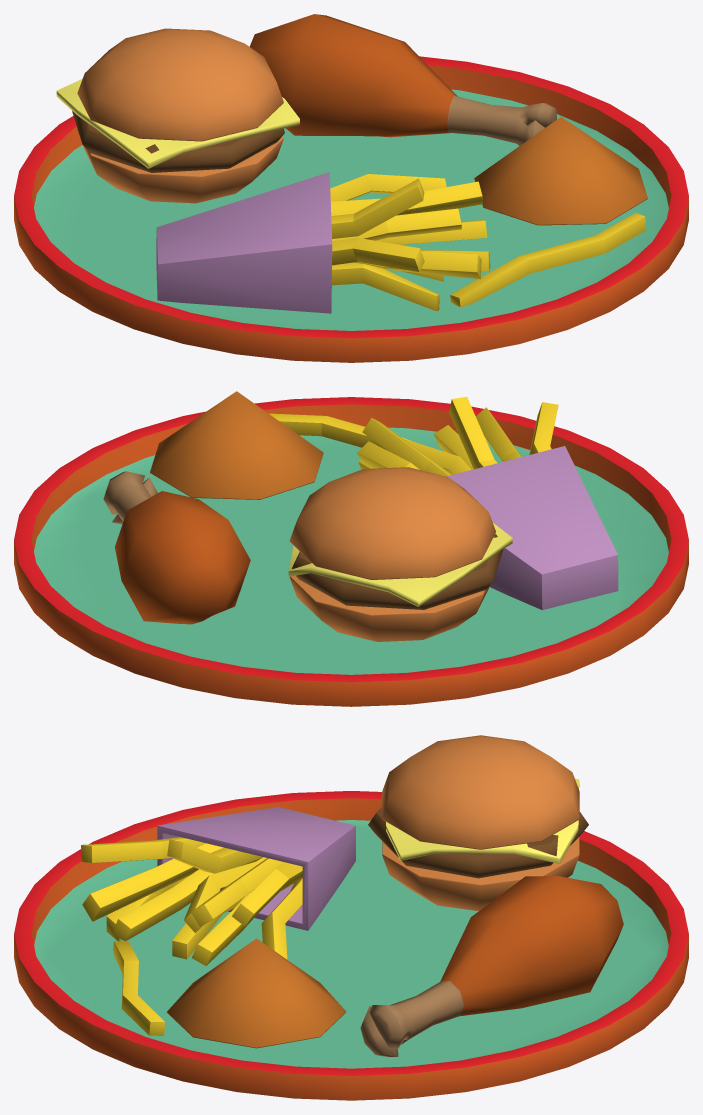
Rendered from SM_Food_3.fbx.
3 views of the same model, one above another, from view 1: azimuth 30°, elevation 25°; view 2: azimuth 150°, elevation 25°; view 3: azimuth 270°, elevation 25° (orthographic).
Parts seen in each view (by area): view 1: SM_Food_3; view 2: SM_Food_3; view 3: SM_Food_3.
Boxes of the visible parts, x1=… form: SM_Food_3: x1=14, y1=14, x2=688, y2=362; SM_Food_3: x1=14, y1=391, x2=688, y2=706; SM_Food_3: x1=14, y1=735, x2=688, y2=1100.
Bounding box in the file's own units: 37.7 × 37.7 × 9.73.
1 material, 1 textured.
